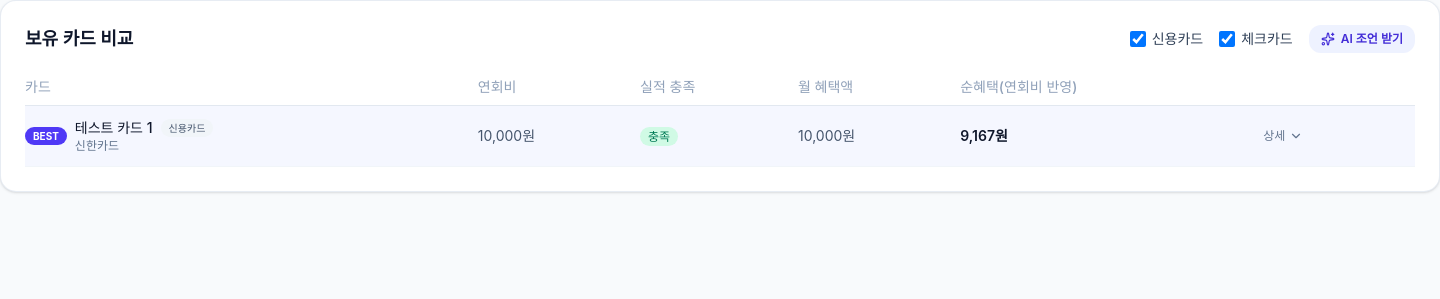
CardList Component Smoke Test › AI 조언 컴포넌트 렌더링 중 예외가 발생하더라도 ErrorBoundary가 폴백 UI를 노출하고 카드 테이블은 유지되어야 한다
The width and height of the screenshot is (1440, 299).
Click the button "상세".
click(1283, 136)  # box x1=1255 y1=124 x2=1311 y2=148
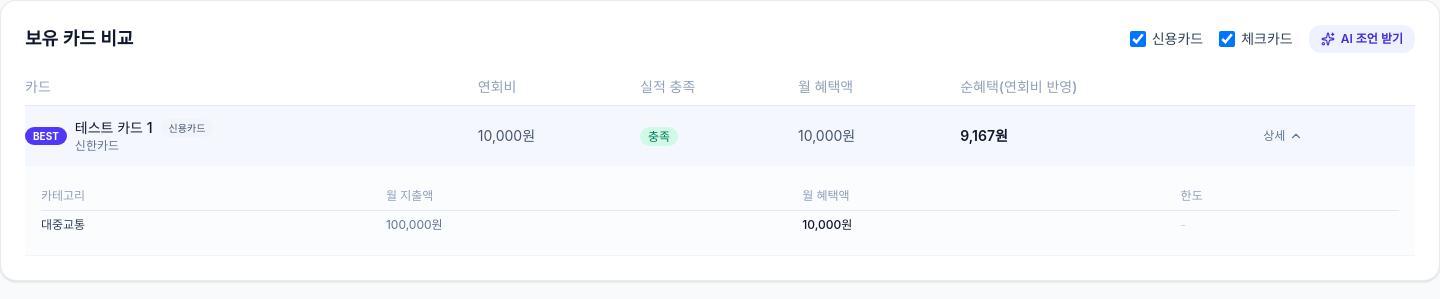
Expected: the heading "보유 카드 비교" is shown, x1=25 y1=25 x2=133 y2=53
Expected: the text "대중교통" is shown, x1=41 y1=210 x2=386 y2=239
